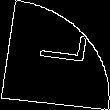L_W: (25, 36, 85, 74)
